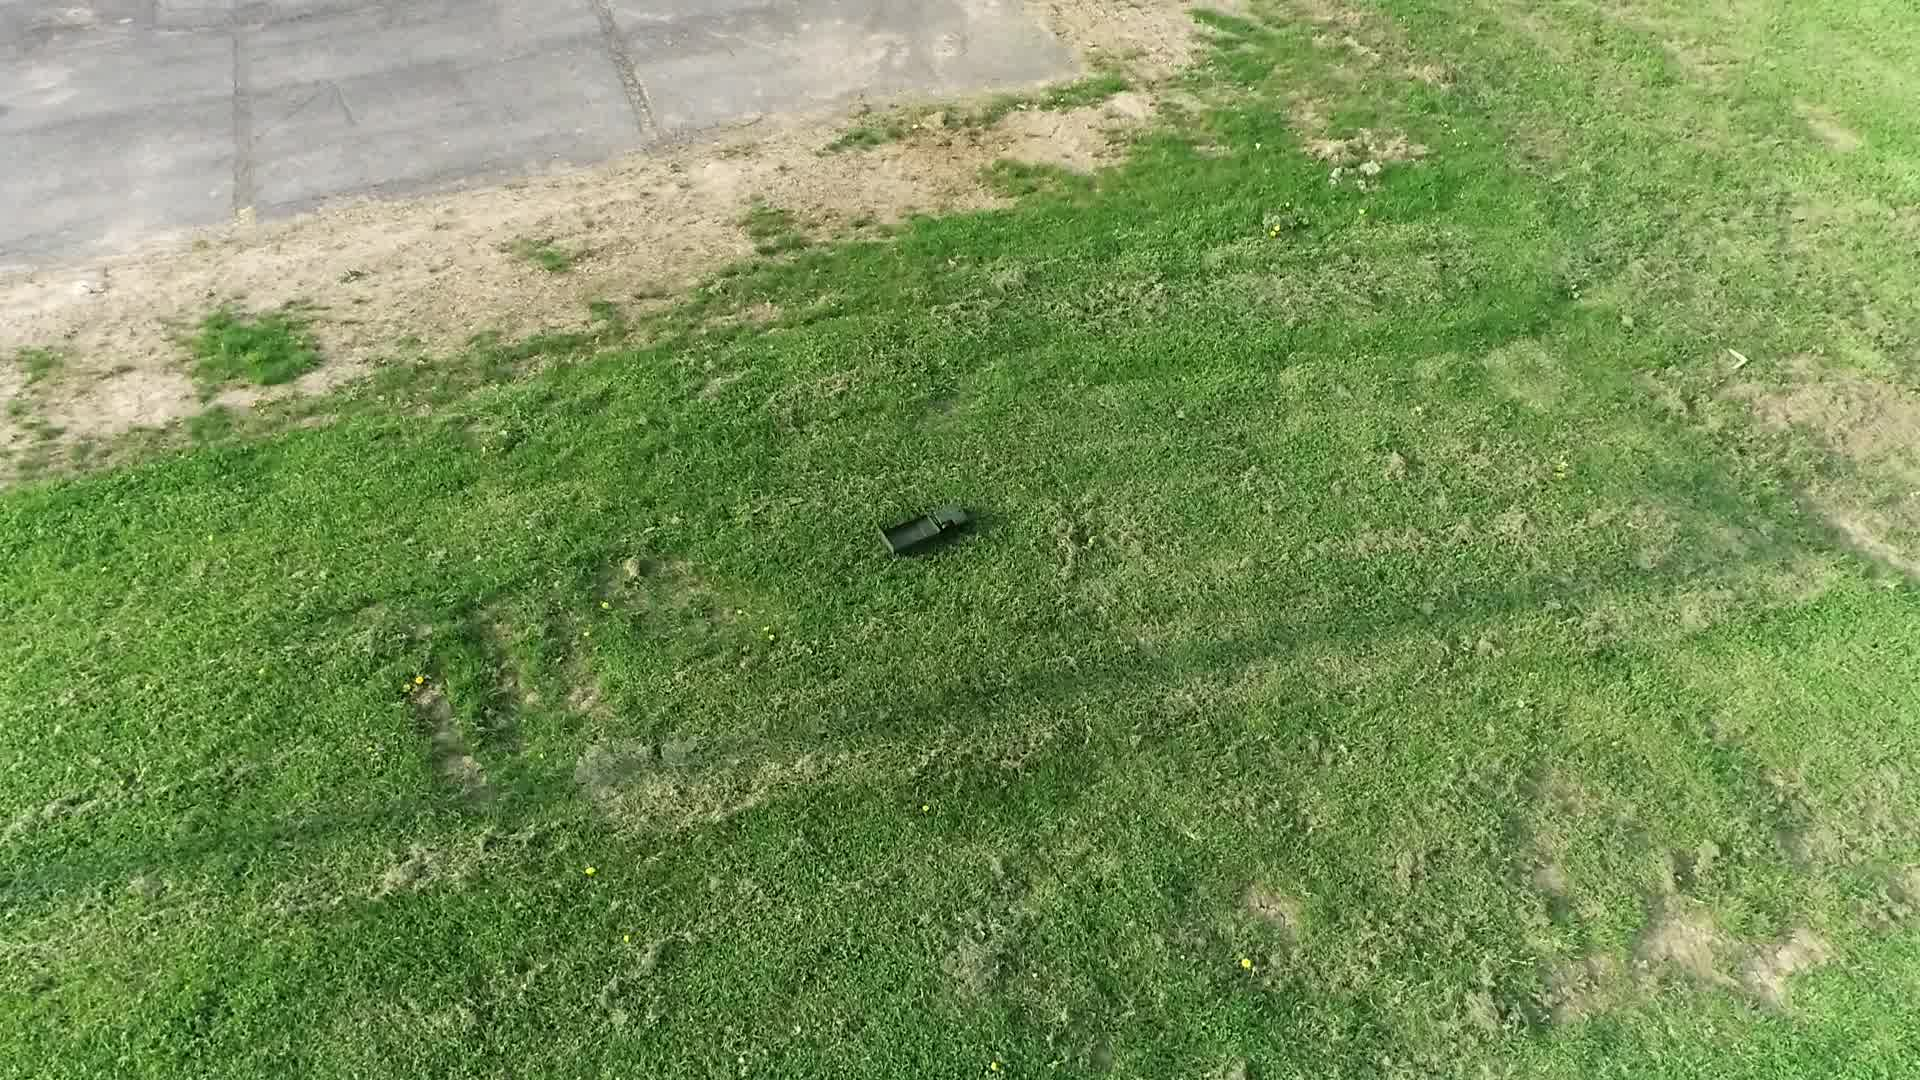transporter9: (876, 493, 980, 560)
